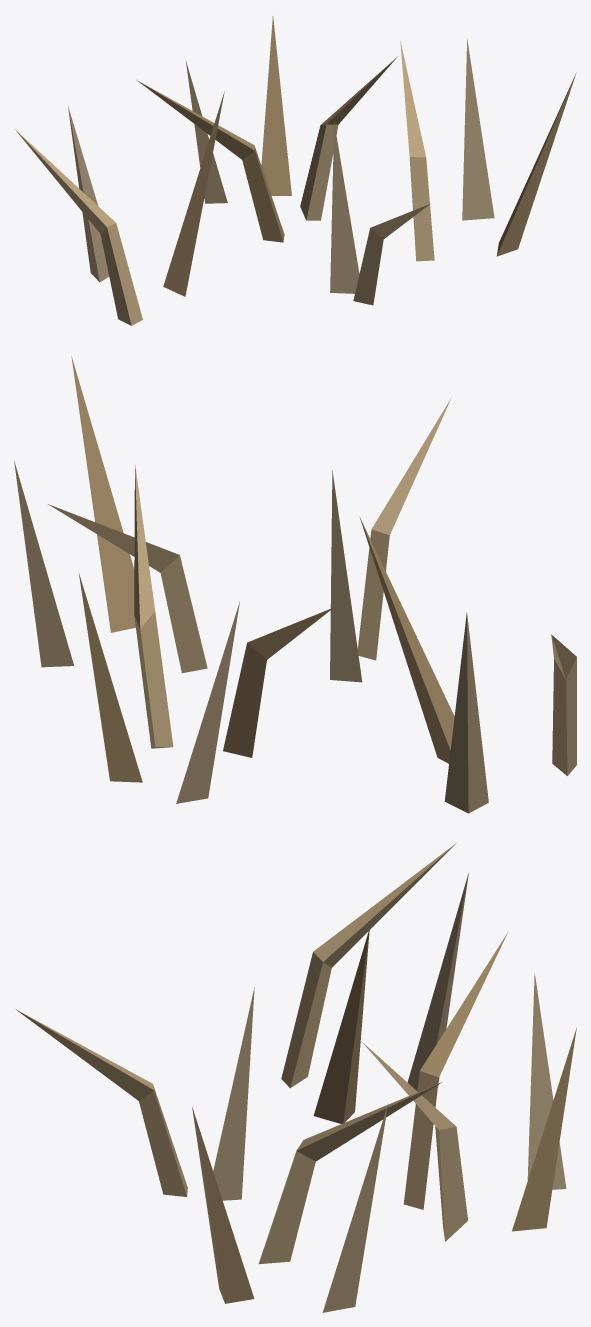
File: Grass3D_b_06.fbx
3 renders of one model, top to bottom at view 1: azimuth 30°, elevation 25°; view 2: azimuth 150°, elevation 25°; view 3: azimuth 270°, elevation 25°, orthographic. The views are drawn at different scales.
Parts seen in each view (by area): view 1: Grass3D_b_06; view 2: Grass3D_b_06; view 3: Grass3D_b_06.
Part boxes in pixels (box(x1,y1,x2,y2)): Grass3D_b_06: box(15, 16, 576, 325); Grass3D_b_06: box(14, 356, 576, 813); Grass3D_b_06: box(15, 843, 576, 1312).
Size of the model in its own units: 124 by 47.03 by 102.
